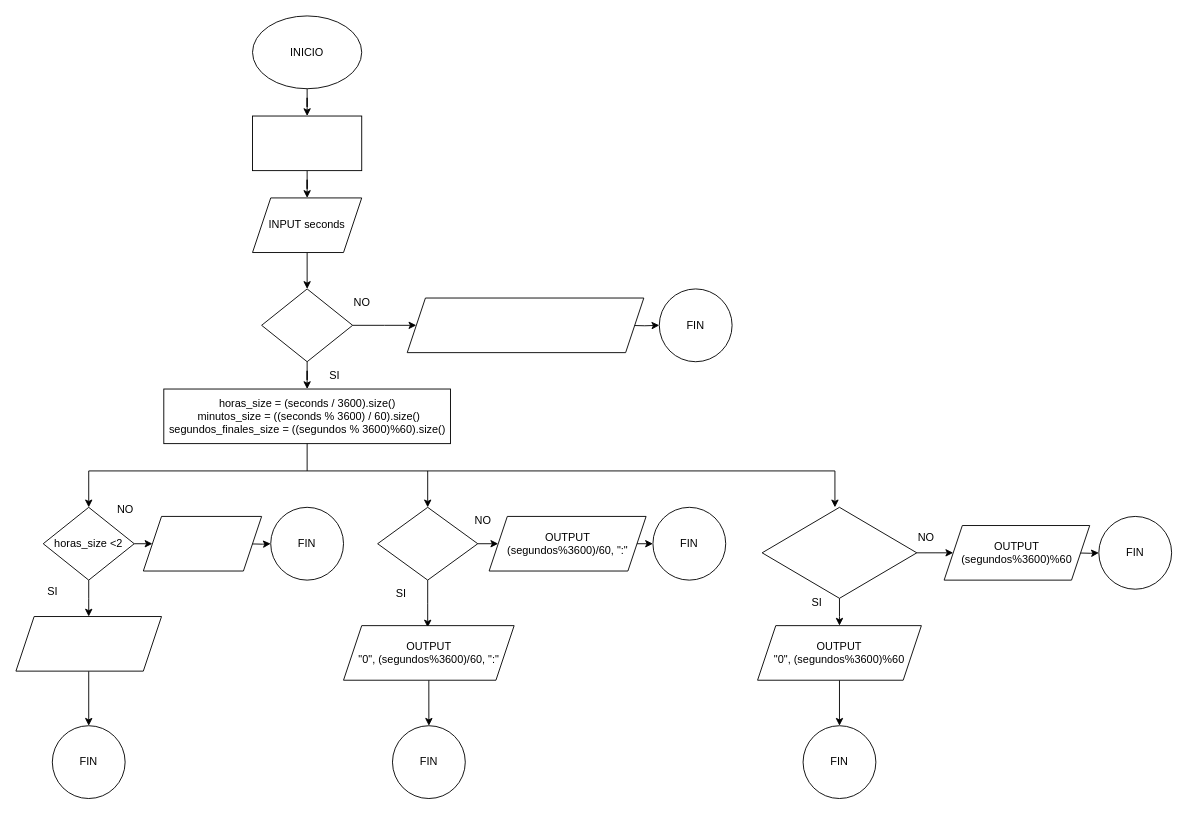
This 1188x814 diagram has some shape labels left out. Each missing label, with the centre of its shape:
Declarando seconds: the point at 307,143
minutos_size <2: the point at 427,543
OUTPUT "0", seconds / 3600, ":": the point at 88,643
OUTPUT "Error: Input seconds cannot be negative.": the point at 525,325
OUTPUT seconds/3600, ":": the point at 202,543
seconds >=0: the point at 307,325
segundos_finales_size < 2: the point at 839,552
